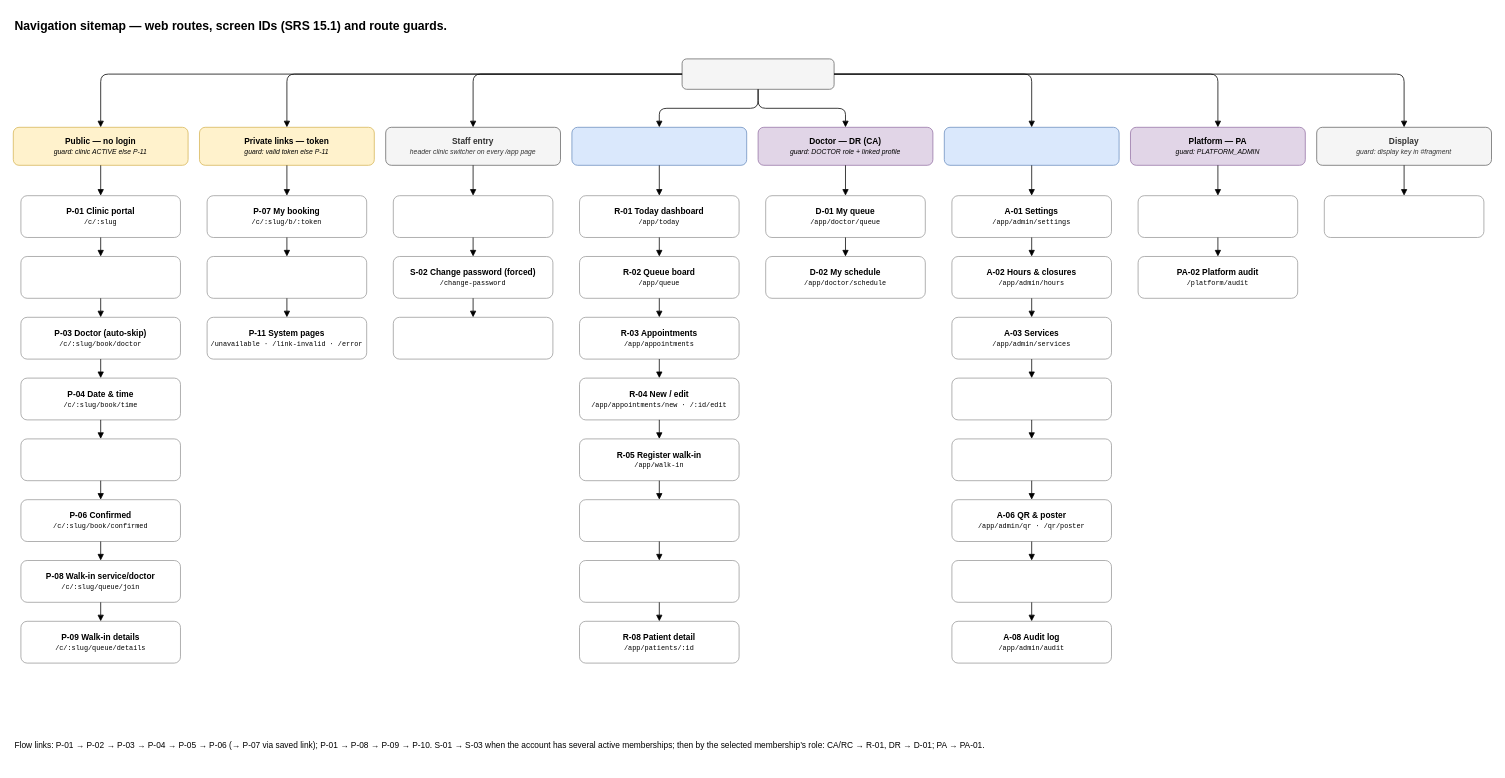
Some shapes in this 1505 by 778 pixel diagram are drawn without their labels. The centre of each missing label's shape, as x and y in pixels:
"A-04 Doctors & schedules /app/admin/doctors" belongs at (x=1031, y=398).
"A-05 Staff /app/admin/staff" belongs at (x=1031, y=459).
"A-07 Reports /app/admin/reports" belongs at (x=1031, y=581).
"Clinic admin — CA guard: CLINIC_ADMIN (RC: QR only)" belongs at (x=1031, y=146).
"Front desk — CA, RC guard: session + role" belongs at (x=659, y=146).
"https://host" belongs at (x=757, y=73).
"P-02 Service /c/:slug/book/service" belongs at (x=100, y=277).
"P-05 Details + hold timer /c/:slug/book/details" belongs at (x=100, y=459).
"P-10 My queue status /c/:slug/q/:token" belongs at (x=286, y=277).
"PA-01 Clinics /platform/clinics" belongs at (x=1217, y=216).
"R-06 Check-in / find /app/find" belongs at (x=659, y=520).
"R-07 Conflicts /app/conflicts" belongs at (x=659, y=581).
"S-01 Login /login" belongs at (x=473, y=216).
"S-03 Select / switch clinic /select-clinic" belongs at (x=473, y=338).
"W-01 Waiting-room display /display#k=…" belongs at (x=1404, y=216).
